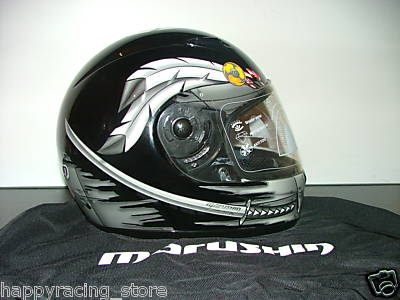helmet: (64, 34, 293, 225)
